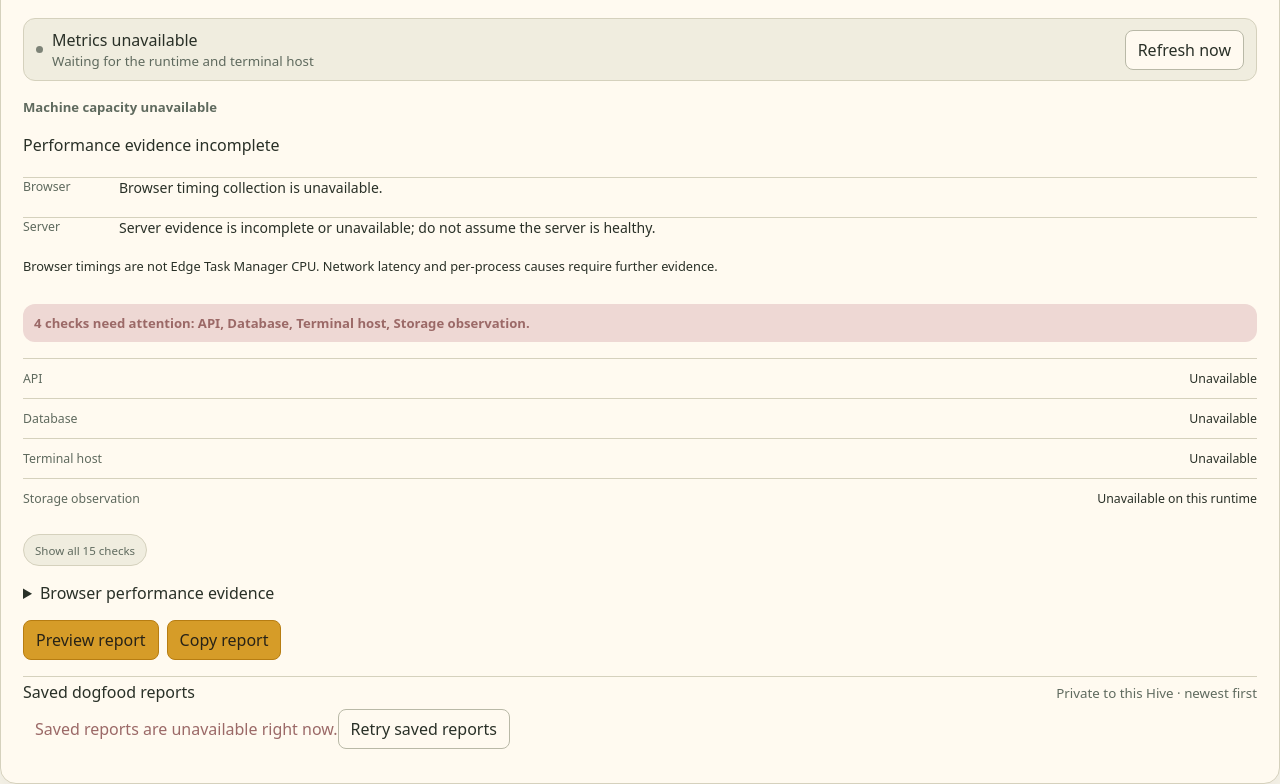
retries saved dogfood reports without disturbing live diagnostics
(page scrolled)
Expected: the text "Saved reports are unavailable right now." is shown, [35, 718, 338, 740]
Click the button "Retry saved reports": [424, 729] box [338, 709, 510, 749]
(page scrolled)
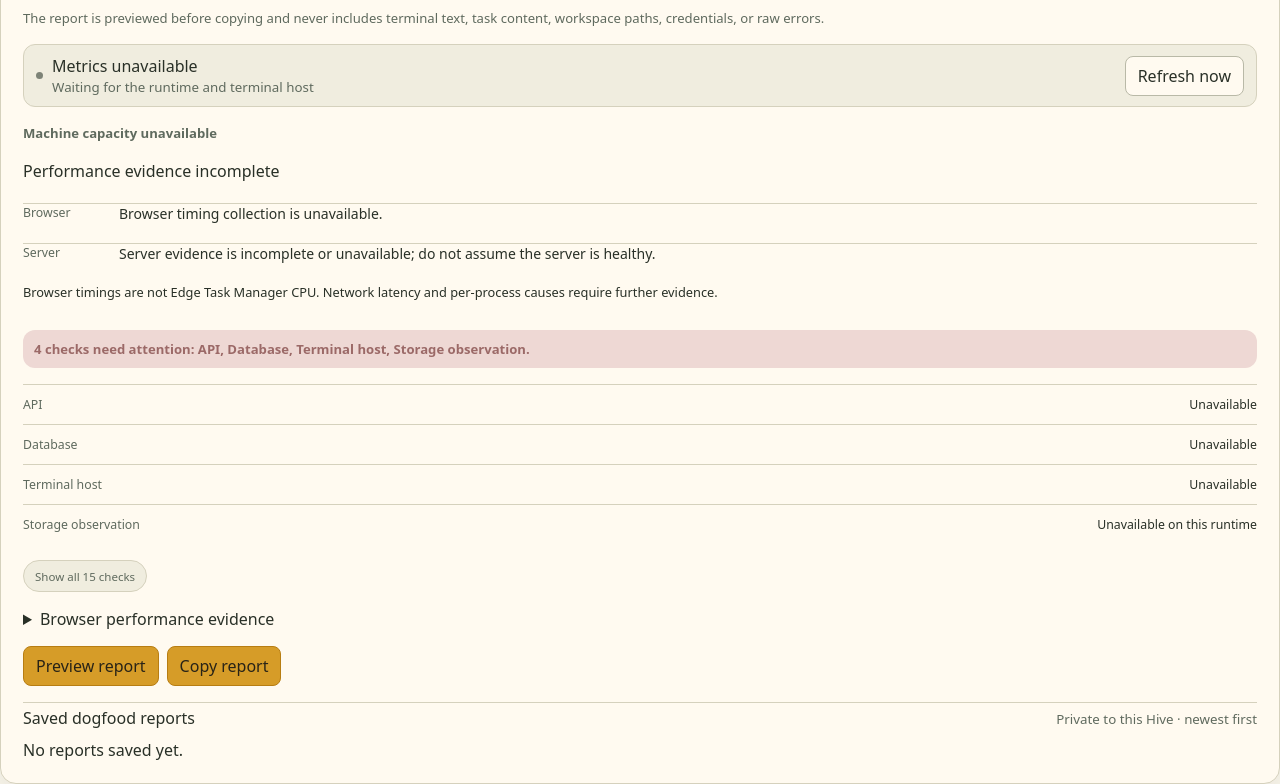
Result: the text "No reports saved yet." is shown at [23, 739, 183, 761]
